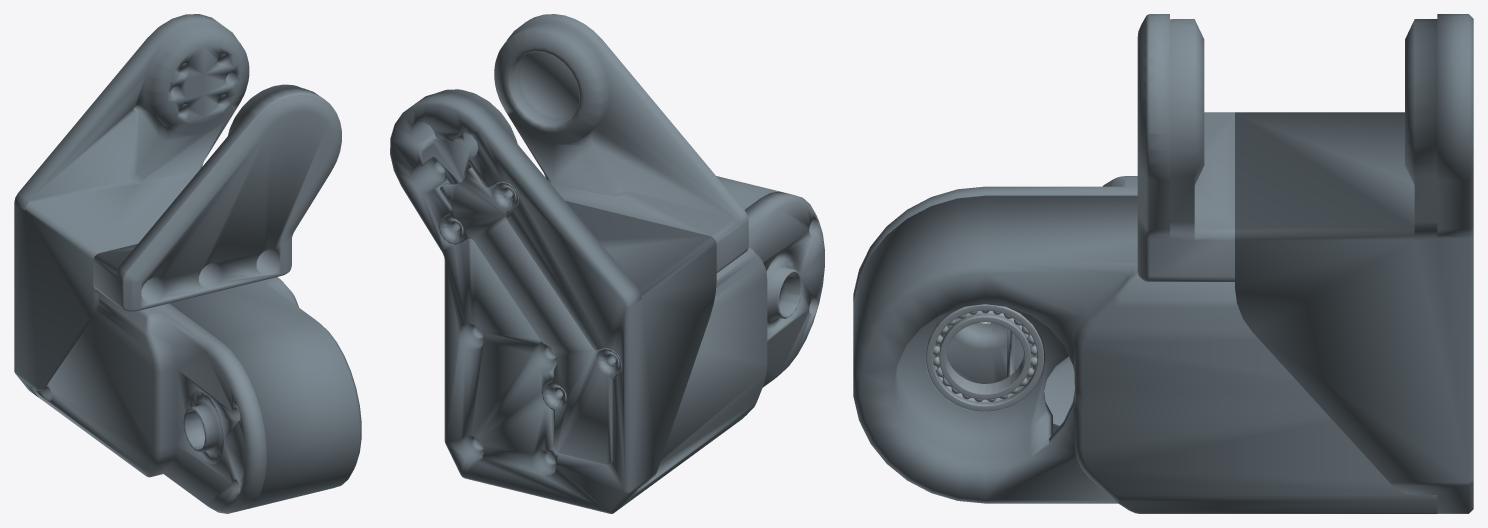
3 renders of one model, left to right at view 1: azimuth 30°, elevation 25°; view 2: azimuth 150°, elevation 25°; view 3: azimuth 270°, elevation 25°, orthographic. The views are drawn at different scales.
Visible parts, largest first — view 1: shell_0, cover_0; view 2: shell_0, cover_0; view 3: shell_0, cover_0, joint_0, joint_1.
Part boxes in pixels (<box>): shell_0: <box>14,14,361,509</box>; cover_0: <box>32,84,341,513</box>; shell_0: <box>390,89,779,513</box>; cover_0: <box>438,14,824,503</box>; shell_0: <box>853,14,1473,513</box>; cover_0: <box>853,14,1234,425</box>; joint_0: <box>933,310,1037,402</box>; joint_1: <box>926,304,1044,411</box>.
Bounding box in the file's own units: 0.0382 × 0.0565 × 0.0631.
